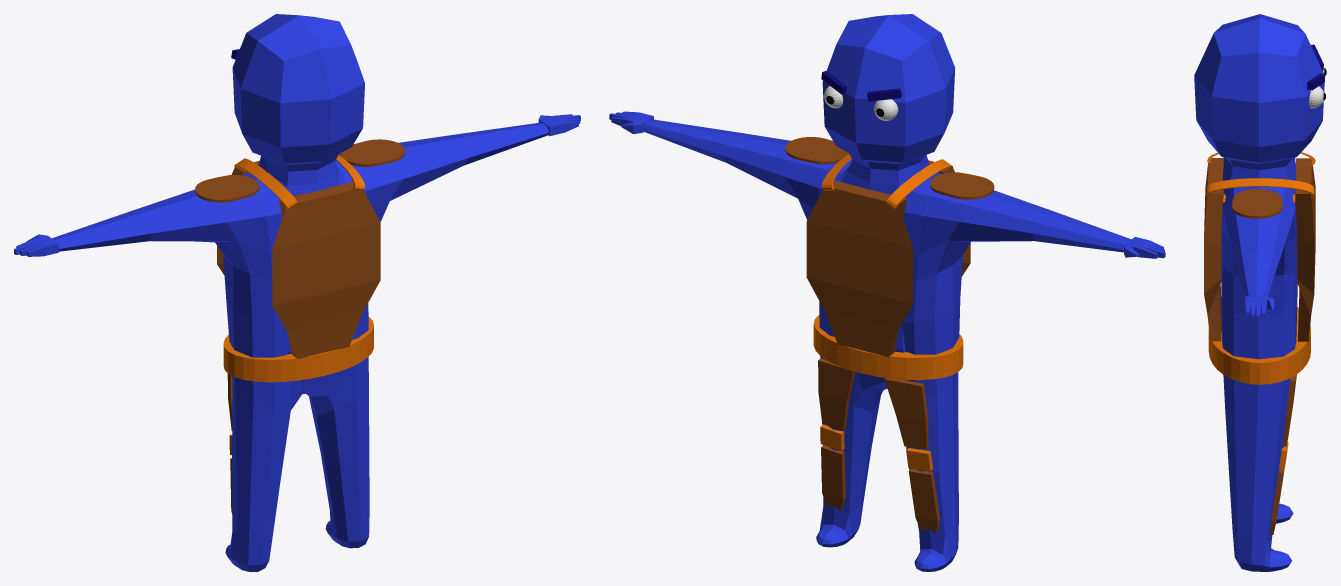
File: BlueSoldier.fbx
The picture shows the model from 3 angles, left to right: view 1: azimuth 30°, elevation 25°; view 2: azimuth 150°, elevation 25°; view 3: azimuth 270°, elevation 25°; orthographic projection. The views are drawn at different scales.
Parts seen in each view (by area): view 1: Cube, Cube.006, Cylinder.002, Cylinder, Cube.001, Cylinder.003; view 2: Cube, Cube.006, Cube.007, Cylinder.002, Cube.008, Cylinder, Cube.001, Cube.009, Cylinder.003; view 3: Cube, Cube.006, Cylinder.002, Cylinder, Cylinder.001, Cube.001, Cube.007, Cube.008, Sphere, Cube.002.
Boxes of the visible parts, box(x1,y1,x2,y2) form: Cube: box(52, 14, 548, 571); Cube.006: box(217, 161, 380, 358); Cylinder.002: box(223, 317, 373, 382); Cylinder: box(195, 139, 404, 202); Cube.001: box(14, 114, 580, 256); Cylinder.003: box(234, 158, 297, 209); Cube: box(643, 14, 1130, 571); Cube.006: box(806, 160, 970, 357); Cube.007: box(818, 358, 928, 449); Cylinder.002: box(813, 315, 963, 380); Cube.008: box(821, 445, 939, 533); Cylinder: box(785, 137, 994, 199); Cube.001: box(609, 111, 1165, 258); Cube.009: box(820, 424, 932, 471); Cylinder.003: box(886, 159, 952, 209); Cube: box(1194, 14, 1324, 571); Cube.006: box(1204, 158, 1315, 341); Cylinder.002: box(1208, 307, 1310, 384); Cylinder: box(1232, 189, 1282, 218); Cylinder.001: box(1206, 178, 1314, 202); Cube.001: box(1245, 296, 1274, 320); Cube.007: box(1282, 374, 1296, 446); Cube.008: box(1270, 469, 1284, 534); Sphere: box(1309, 86, 1323, 108); Cube.002: box(1307, 73, 1325, 90).
Bounding box in the file's own units: 841 × 773 × 176.
